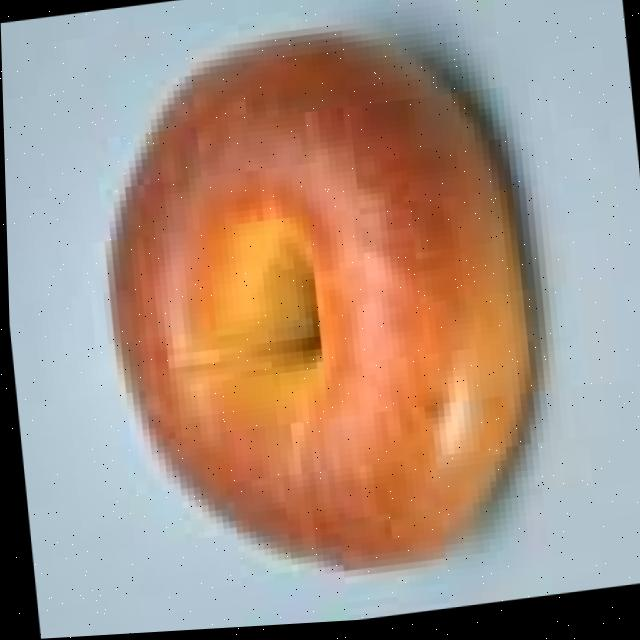Bacon: (109, 40, 528, 572)
